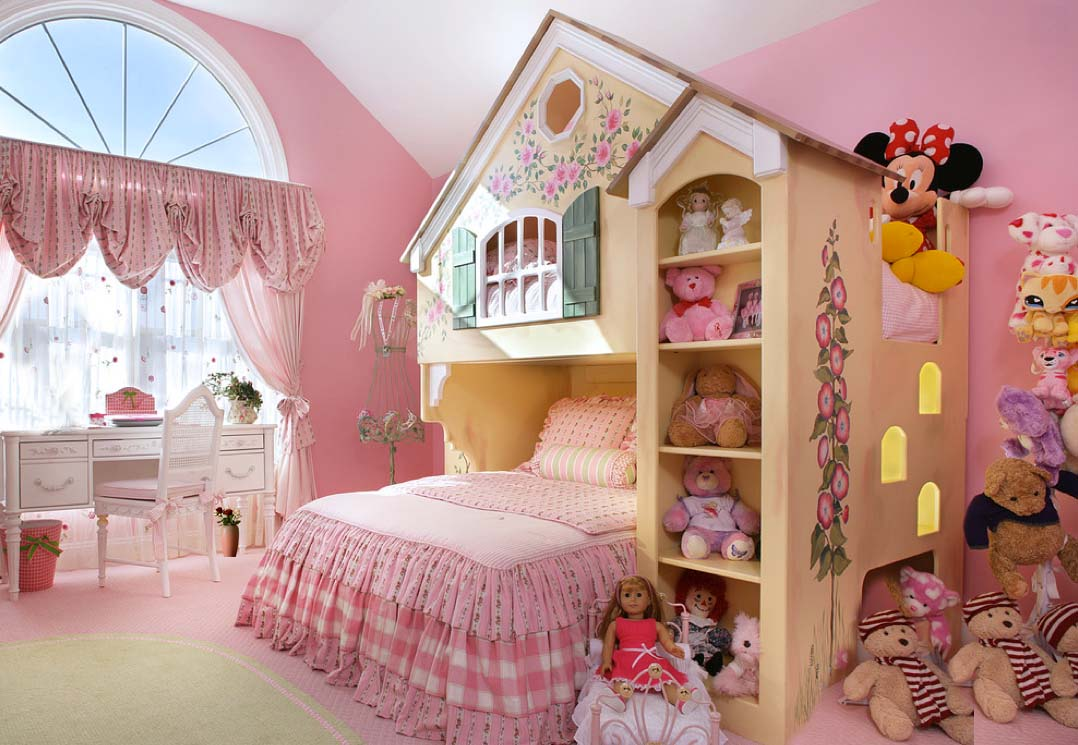copymove: (833, 596, 962, 736)
removal: (8, 306, 84, 431)
spliced: (219, 485, 240, 564)
